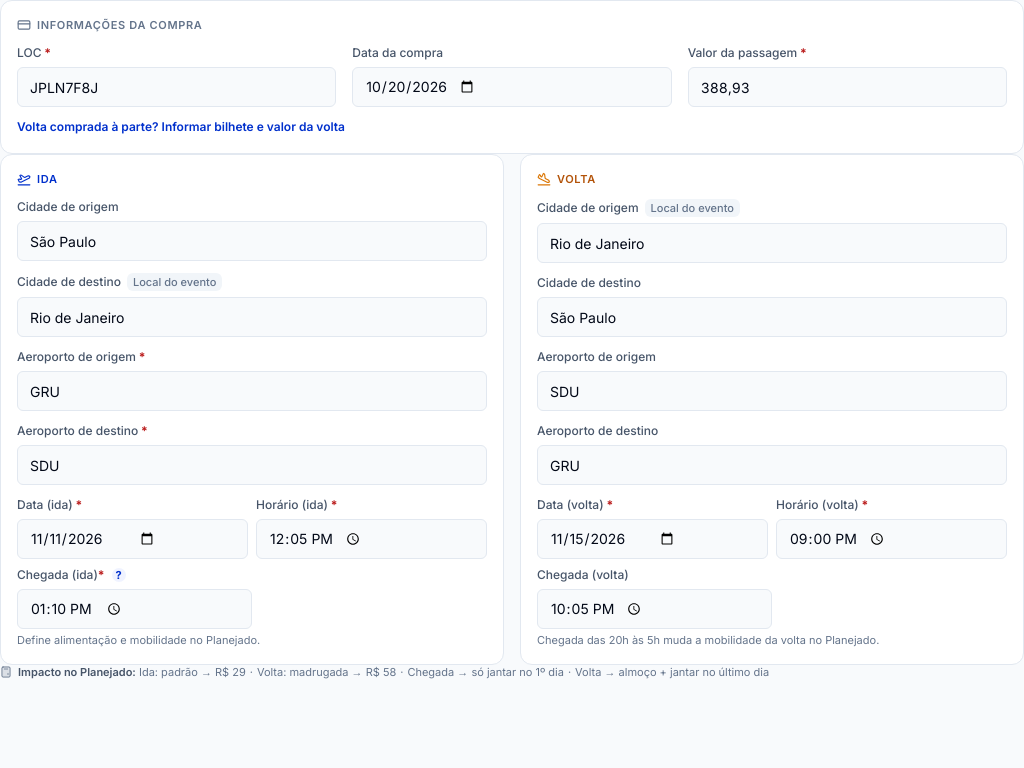
it: campos do formulário (modal) — rótulos e ícone por trecho › mesmo tipo: "Volta comprada à parte?" abre os campos da volta
This screenshot has width=1024, height=768.
Click the button with test id "abrir-volta-a-parte-v1". click: click(181, 127)
box: 17,119 -> 345,135
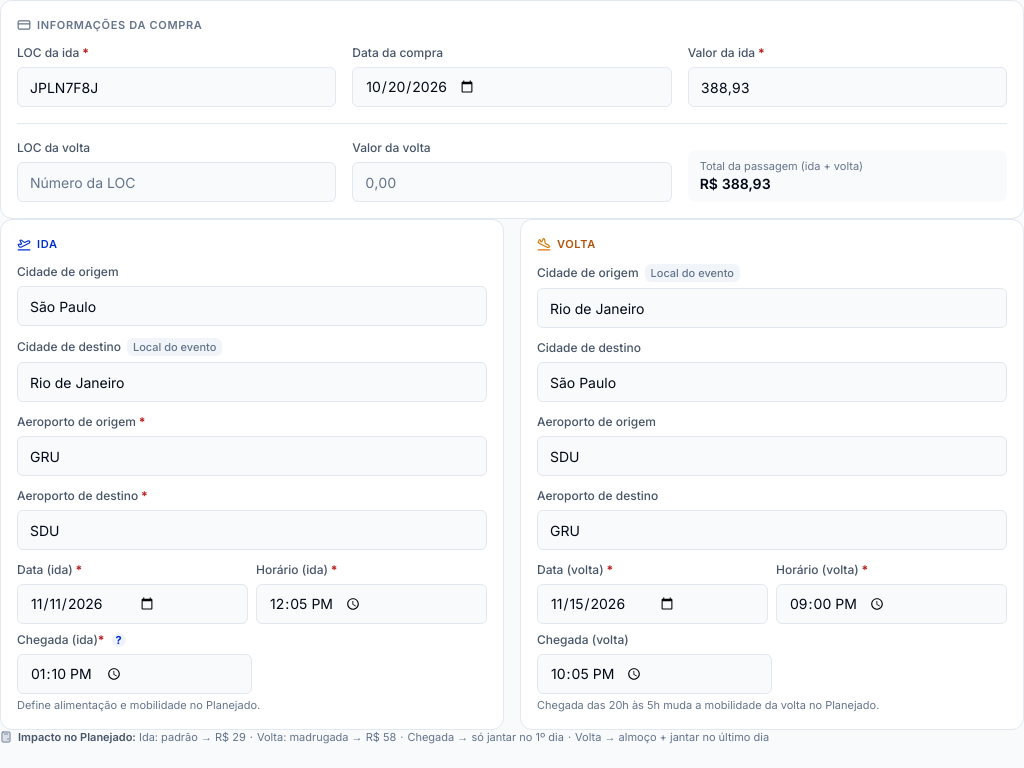
Expected: the text "Valor da volta" is shown, 352,140 -> 431,155
Expected: the text "LOC da volta" is shown, 17,140 -> 90,155
